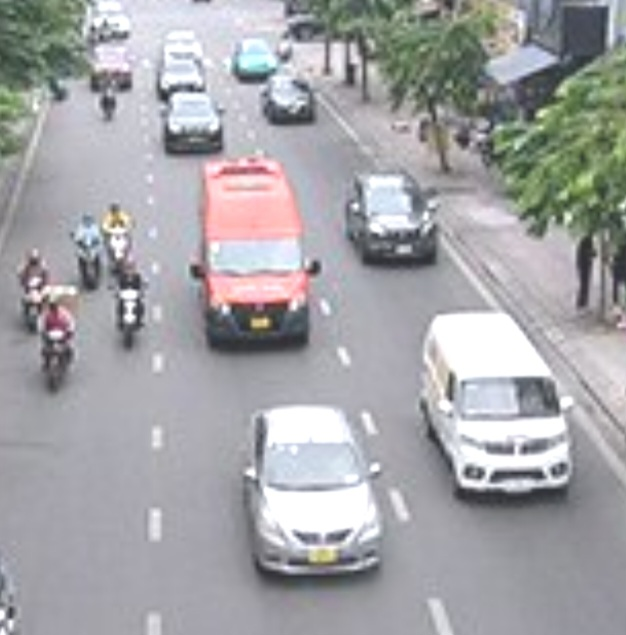car: (417, 311, 575, 496), (244, 407, 386, 577), (195, 164, 309, 353), (344, 163, 440, 265), (161, 94, 223, 154), (265, 74, 316, 126), (233, 38, 279, 81)
